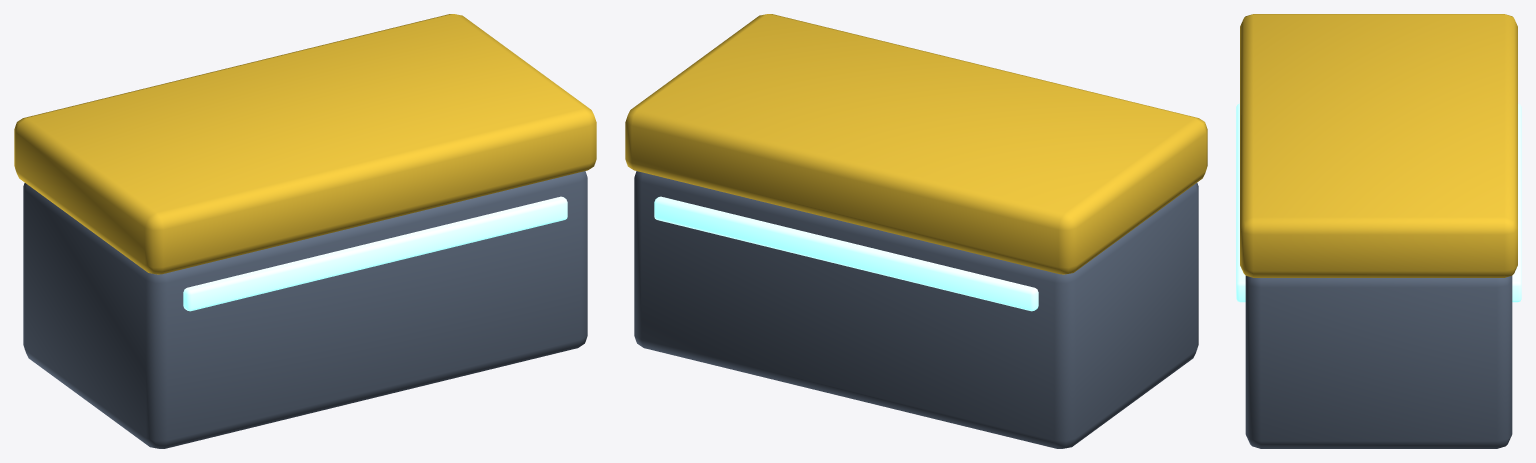
File: prop_supplybin.glb
3 views of the same model, side by side, from view 1: azimuth 30°, elevation 25°; view 2: azimuth 150°, elevation 25°; view 3: azimuth 270°, elevation 25° (orthographic). The views are drawn at different scales.
Visible parts, largest first — view 1: bin_lid, bin_base, bin_glow_strip; view 2: bin_lid, bin_base, bin_glow_strip; view 3: bin_lid, bin_base, bin_glow_strip.
Boxes of the visible parts, x1,y1,x2,y2 form: bin_lid: (14,14,596,274); bin_base: (23,171,587,448); bin_glow_strip: (183,196,567,311); bin_lid: (625,14,1207,274); bin_base: (634,171,1198,448); bin_glow_strip: (654,196,1038,311); bin_lid: (1240,14,1517,277); bin_base: (1245,276,1512,448); bin_glow_strip: (1236,103,1521,302).
Size of the model in its own units: 2.66 by 1.36 by 1.5.
